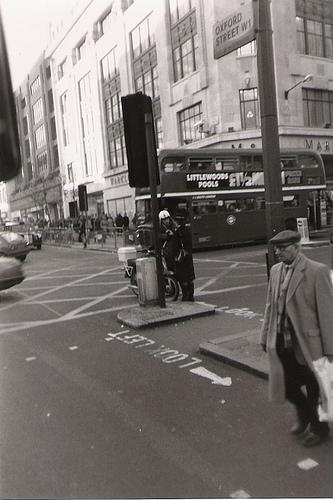bus: (157, 147, 333, 248)
car: (3, 221, 42, 250), (0, 250, 24, 289), (4, 232, 35, 259)
motorcycle: (120, 258, 179, 302)
